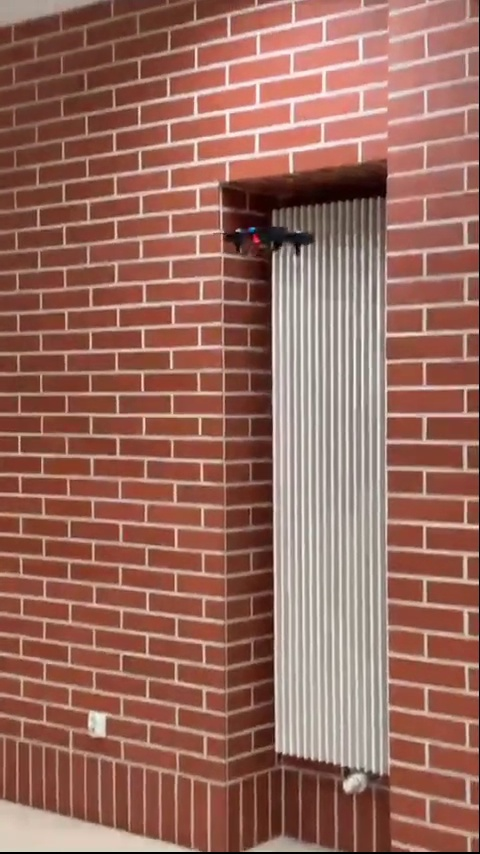drone: (225, 214, 316, 252)
